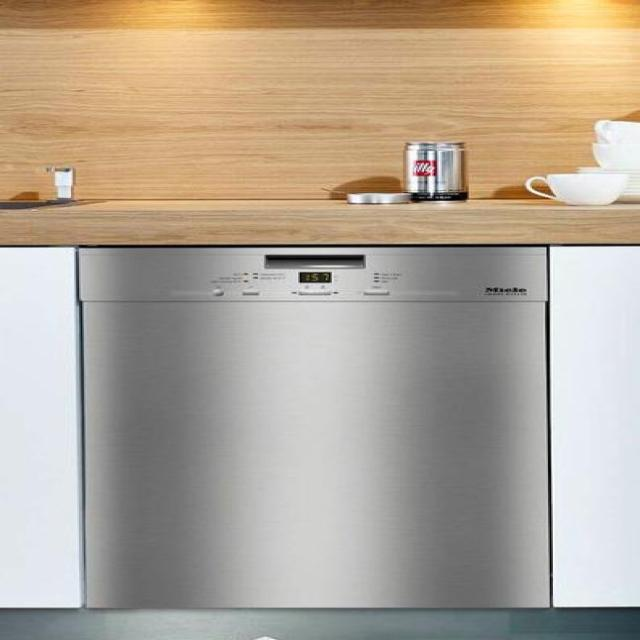dishwasher: (76, 245, 550, 609)
